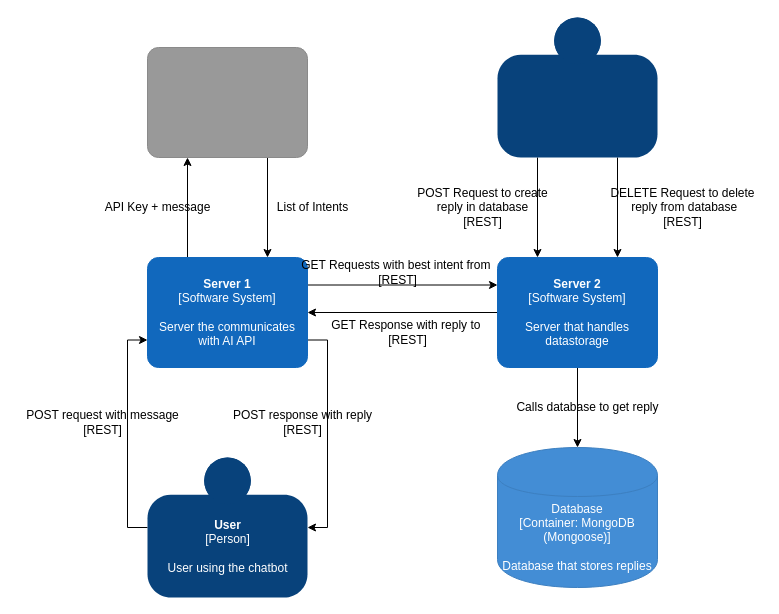
The diagram is 779 pixels wide and 614 high, and some of its shapes have lost their labels. The shapes that lost their labels are listed below. From the top down, each one's box as (x1, y1, x2, y2) in pixels, then its label:
(146, 46, 308, 158): AI server [Software System] External AI API
(497, 17, 657, 157): Software Engineer [Person] Engineer with CRUD permissions
